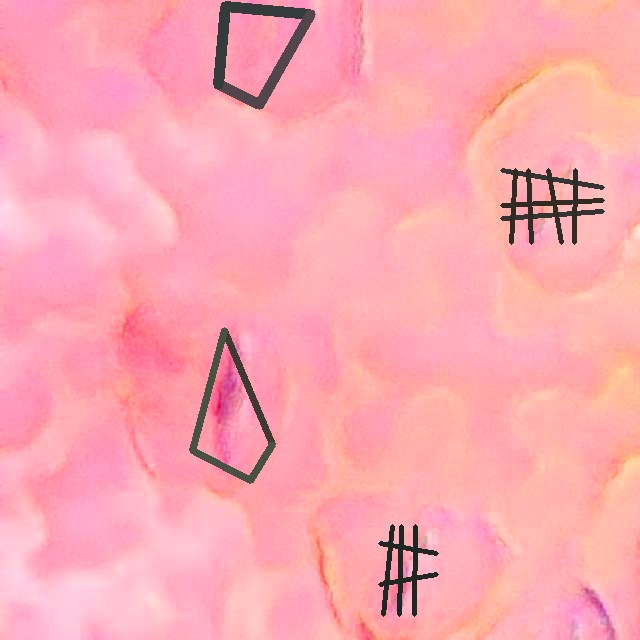open: (189, 328, 275, 483), (214, 1, 315, 108), (501, 169, 603, 243), (379, 524, 437, 616)
